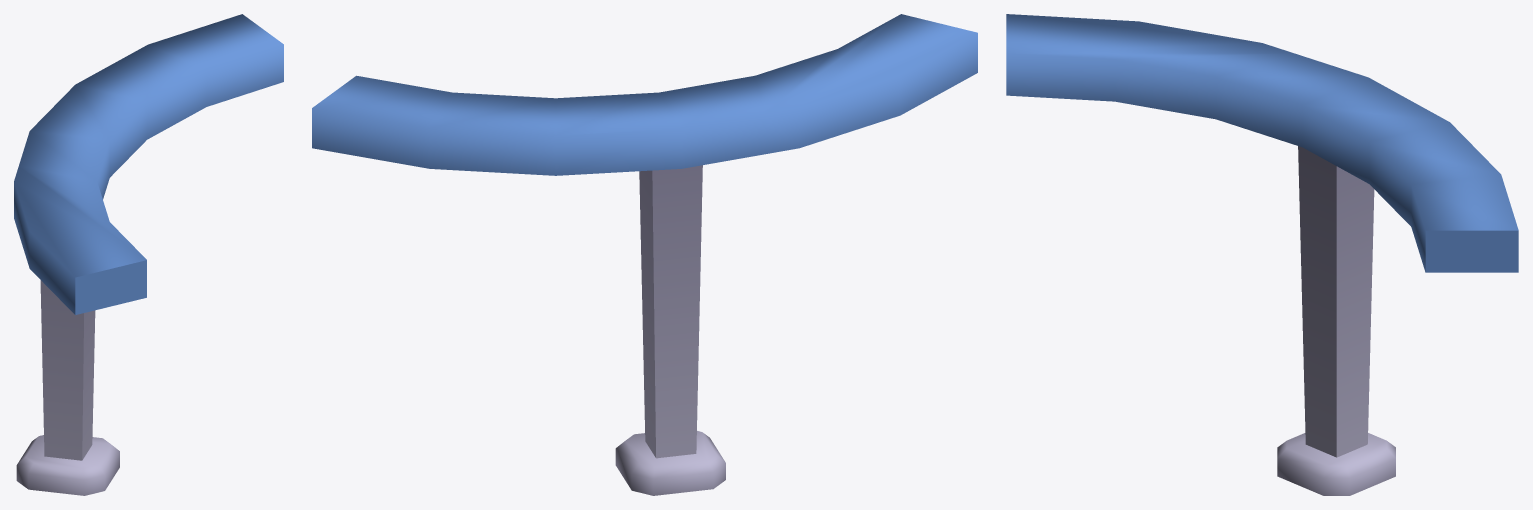
The model's file is rail-high-curve.fbx.
3 views of the same model, side by side, from view 1: azimuth 30°, elevation 25°; view 2: azimuth 150°, elevation 25°; view 3: azimuth 270°, elevation 25° (orthographic). The views are drawn at different scales.
Parts seen in each view (by area): view 1: rail-high-curve; view 2: rail-high-curve; view 3: rail-high-curve.
Part boxes in pixels (left/top/right/bottom): rail-high-curve: left=14, top=14, right=283, bottom=495; rail-high-curve: left=312, top=14, right=977, bottom=495; rail-high-curve: left=1006, top=14, right=1518, bottom=495.
Size of the model in its own units: 55 by 45 by 55.
Materials: 1 (1 with a texture image).
